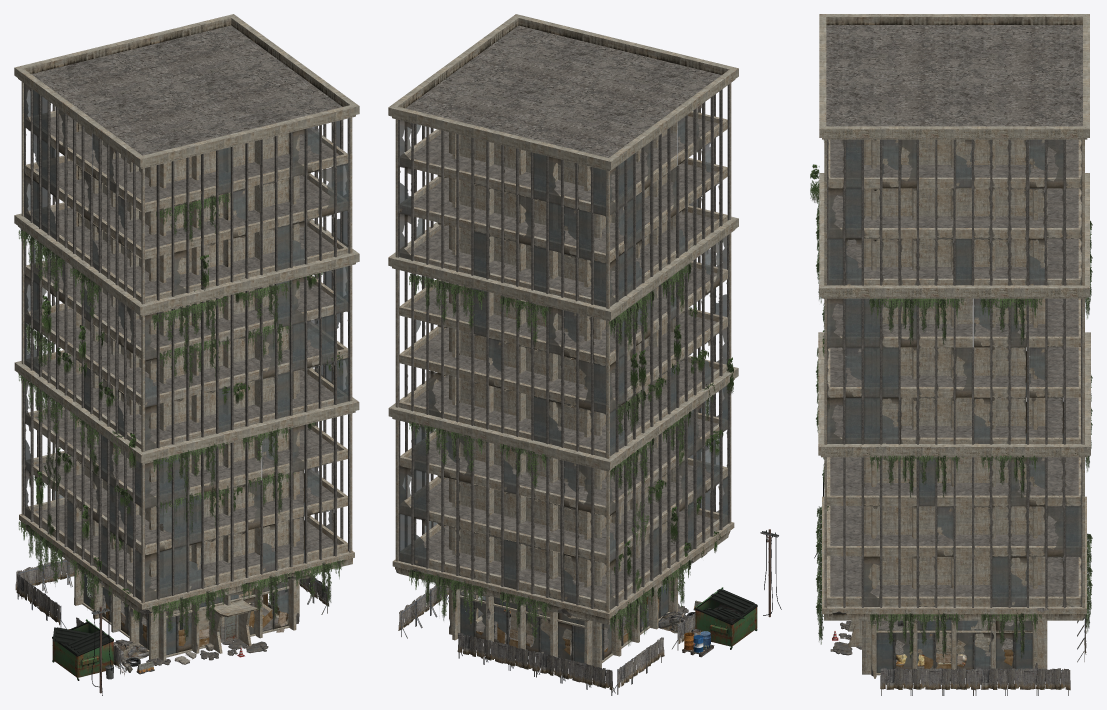
The model's file is predio_props.glb.
The picture shows the model from 3 angles, left to right: view 1: azimuth 30°, elevation 25°; view 2: azimuth 150°, elevation 25°; view 3: azimuth 270°, elevation 25°; orthographic projection. The views are drawn at different scales.
Parts seen in each view (by area): view 1: 51_51Mtl_0, 11_71Mtl_0, 31_51Mtl_0, 71_71Mtl_0, 73_71Mtl_0, 33_51Mtl_0, 72_71Mtl_0, 32_51Mtl_0, 23_21Mtl_0, 12_71Mtl_0, 13_71Mtl_0, 22_21Mtl_0 (+35 smaller); view 2: 51_51Mtl_0, 11_71Mtl_0, 73_71Mtl_0, 31_51Mtl_0, 72_71Mtl_0, 33_51Mtl_0, 71_71Mtl_0, 32_51Mtl_0, 21_21Mtl_0, 23_21Mtl_0, 12_71Mtl_0, 13_71Mtl_0 (+27 smaller); view 3: 51_51Mtl_0, 73_71Mtl_0, 11_71Mtl_0, 71_71Mtl_0, 72_71Mtl_0, 13_71Mtl_0, 22_21Mtl_0, 12_71Mtl_0, 21_21Mtl_0, 83_81Mtl_0, 81_81Mtl_0, 82_81Mtl_0 (+26 smaller).
Boxes of the visible parts, x1=… form: 51_51Mtl_0: x1=31, y1=25, x2=342, y2=155; 11_71Mtl_0: x1=14, y1=14, x2=359, y2=214; 31_51Mtl_0: x1=24, y1=83, x2=349, y2=300; 71_71Mtl_0: x1=21, y1=126, x2=352, y2=304; 73_71Mtl_0: x1=21, y1=421, x2=352, y2=603; 33_51Mtl_0: x1=23, y1=377, x2=349, y2=599; 72_71Mtl_0: x1=21, y1=274, x2=352, y2=451; 32_51Mtl_0: x1=24, y1=240, x2=349, y2=450; 23_21Mtl_0: x1=24, y1=381, x2=334, y2=601; 12_71Mtl_0: x1=14, y1=213, x2=359, y2=361; 13_71Mtl_0: x1=14, y1=361, x2=359, y2=509; 22_21Mtl_0: x1=25, y1=239, x2=348, y2=450; 51_51Mtl_0: x1=405, y1=25, x2=721, y2=157; 11_71Mtl_0: x1=388, y1=14, x2=738, y2=217; 73_71Mtl_0: x1=395, y1=428, x2=731, y2=612; 31_51Mtl_0: x1=398, y1=84, x2=729, y2=307; 72_71Mtl_0: x1=395, y1=278, x2=731, y2=458; 33_51Mtl_0: x1=398, y1=387, x2=729, y2=608; 71_71Mtl_0: x1=395, y1=128, x2=731, y2=308; 32_51Mtl_0: x1=398, y1=235, x2=728, y2=457; 21_21Mtl_0: x1=399, y1=93, x2=719, y2=307; 23_21Mtl_0: x1=398, y1=385, x2=728, y2=611; 12_71Mtl_0: x1=388, y1=216, x2=738, y2=367; 13_71Mtl_0: x1=388, y1=366, x2=738, y2=517; 51_51Mtl_0: x1=826, y1=25, x2=1082, y2=126; 73_71Mtl_0: x1=824, y1=506, x2=1084, y2=607; 11_71Mtl_0: x1=819, y1=14, x2=1089, y2=188; 71_71Mtl_0: x1=824, y1=187, x2=1084, y2=285; 72_71Mtl_0: x1=824, y1=347, x2=1084, y2=444; 13_71Mtl_0: x1=818, y1=332, x2=1090, y2=506; 22_21Mtl_0: x1=827, y1=298, x2=1063, y2=443; 12_71Mtl_0: x1=819, y1=173, x2=1089, y2=347; 21_21Mtl_0: x1=828, y1=139, x2=1081, y2=285; 83_81Mtl_0: x1=830, y1=506, x2=1078, y2=596; 81_81Mtl_0: x1=831, y1=188, x2=1078, y2=278; 82_81Mtl_0: x1=830, y1=347, x2=1078, y2=437.
Size of the model in its own units: 80.31 by 153 by 68.62.
Materials: 27 (27 with a texture image).
